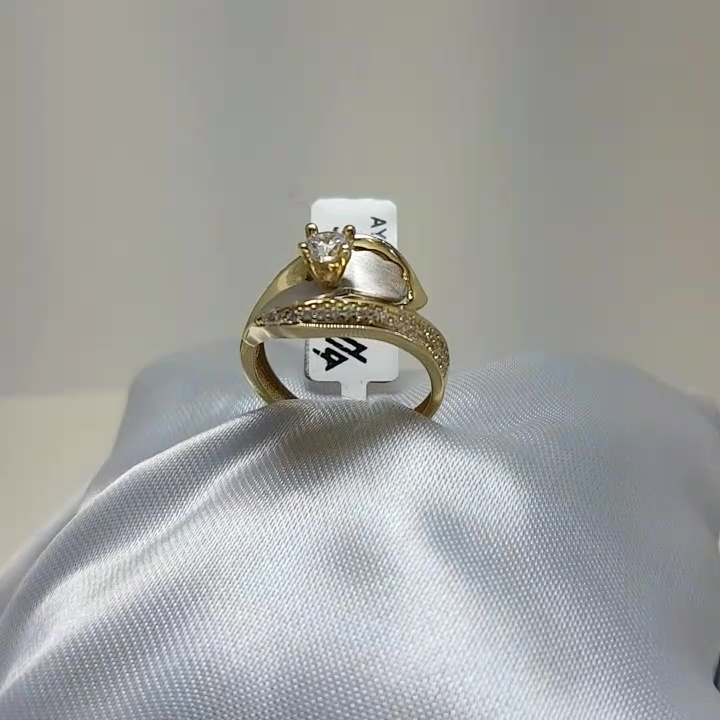Ring 6: (233, 214, 459, 454)
